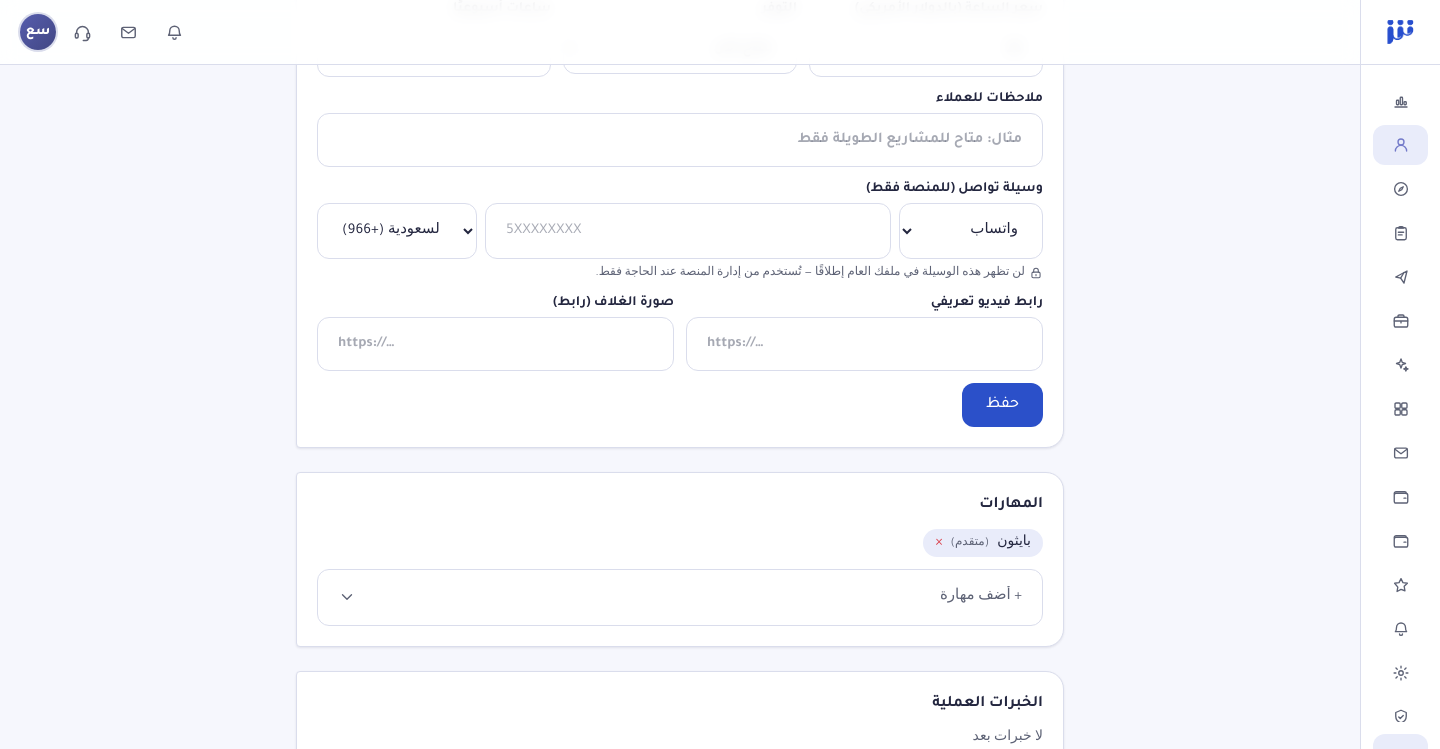
it: ProfileEditPage › shows a partial-success notice when the profile write fails after the identity write
(page scrolled)
Click the button "حفظ".
click(1002, 405)  # box [962, 383, 1043, 427]
(page scrolled)
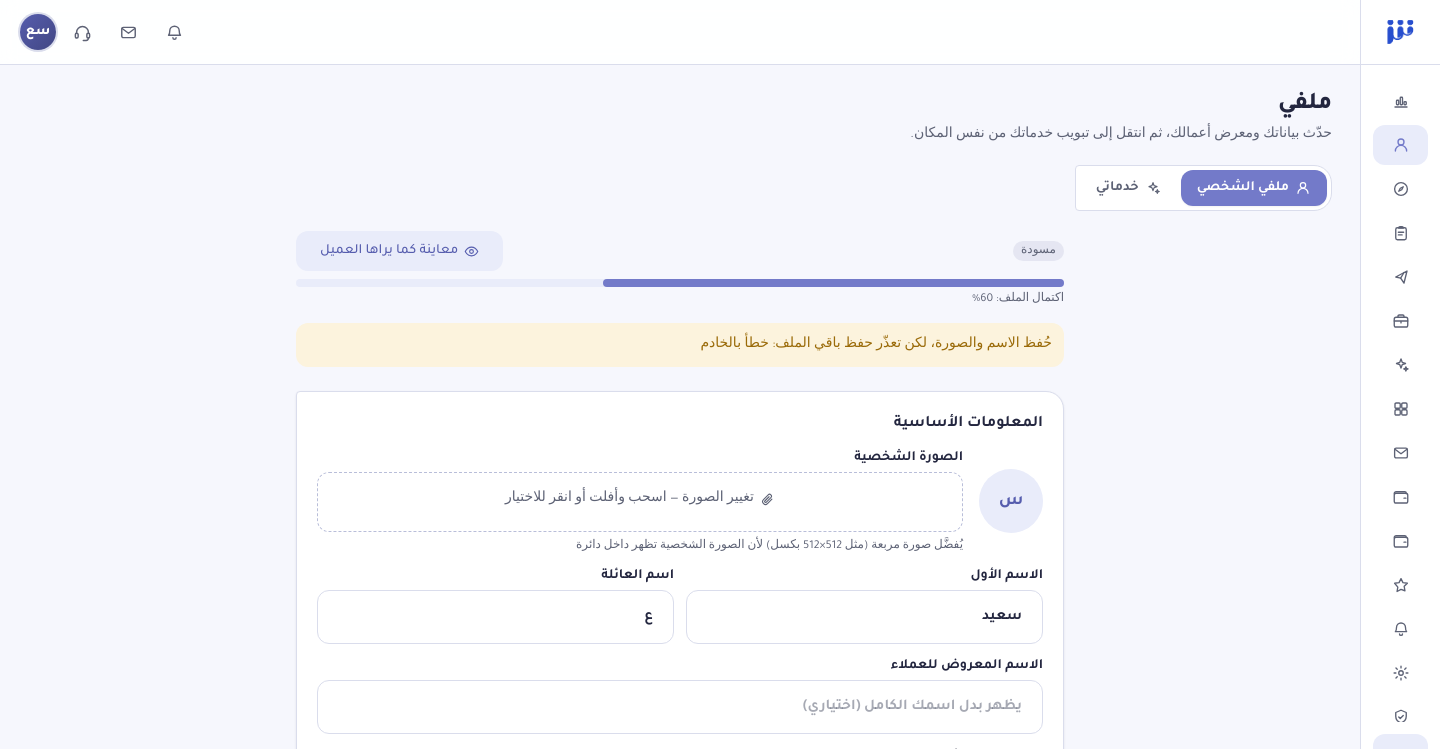
Expected: the text "حُفظ الاسم والصورة، لكن تعذّر حفظ باقي الملف: خطأ بالخادم" is shown, [296, 323, 1064, 367]
